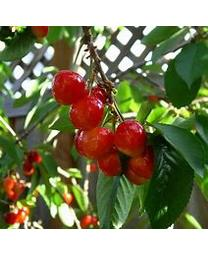cherry: (52, 69, 87, 106), (114, 118, 145, 159), (76, 127, 114, 158), (71, 93, 104, 127), (126, 153, 151, 186), (96, 147, 123, 174)
